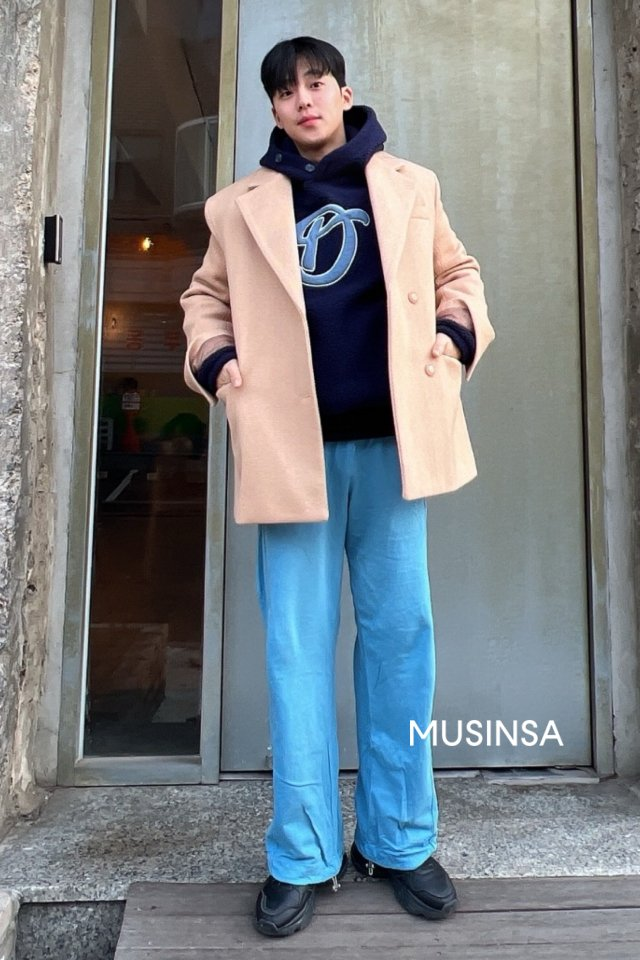Hoodie: (262, 101, 393, 176)
Jacket: (175, 155, 509, 515)
Pants: (257, 437, 430, 874)
Shoes: (233, 846, 477, 936)
